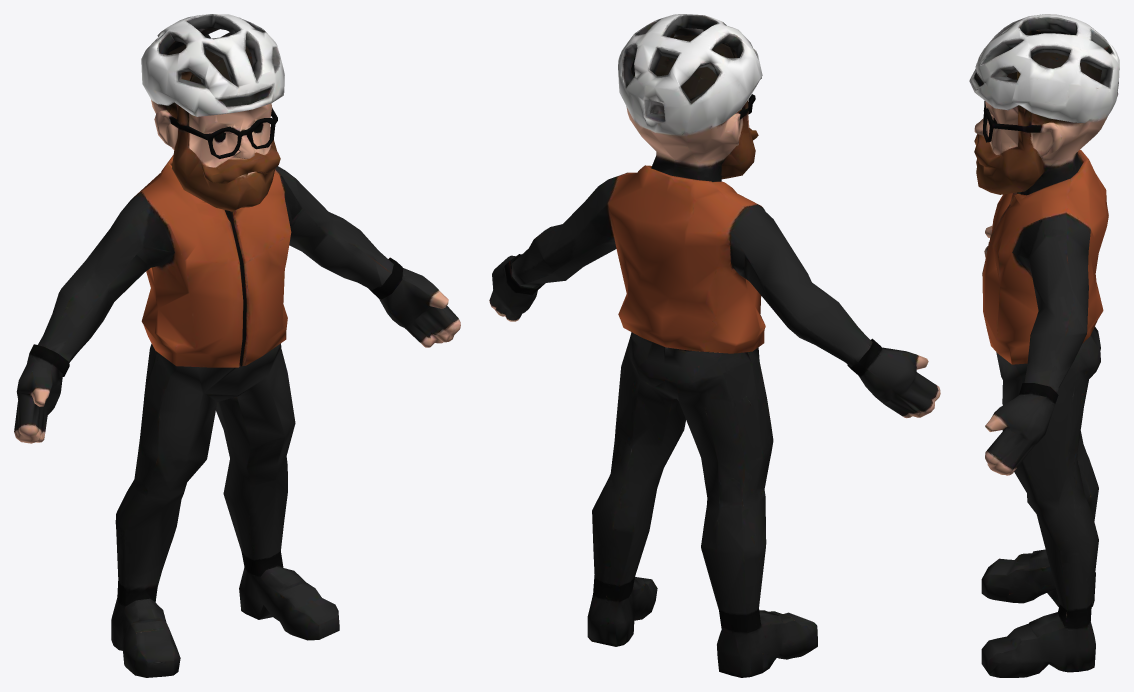
File: rider.glb
The picture shows the model from 3 angles, left to right: view 1: azimuth 30°, elevation 25°; view 2: azimuth 150°, elevation 25°; view 3: azimuth 270°, elevation 25°; orthographic projection.
Visible parts, largest first — view 1: world; view 2: world; view 3: world.
Boxes of the visible parts, x1=… form: world: x1=14, y1=14, x2=460, y2=677; world: x1=489, y1=14, x2=940, y2=677; world: x1=969, y1=14, x2=1119, y2=677.
Bounding box in the file's own units: 0.7511 × 1 × 0.2246.
Materials: 1 (1 with a texture image).
